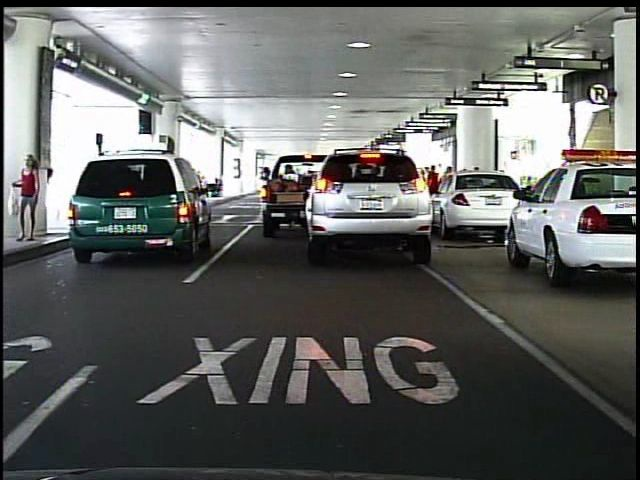person: (20, 151, 50, 247)
